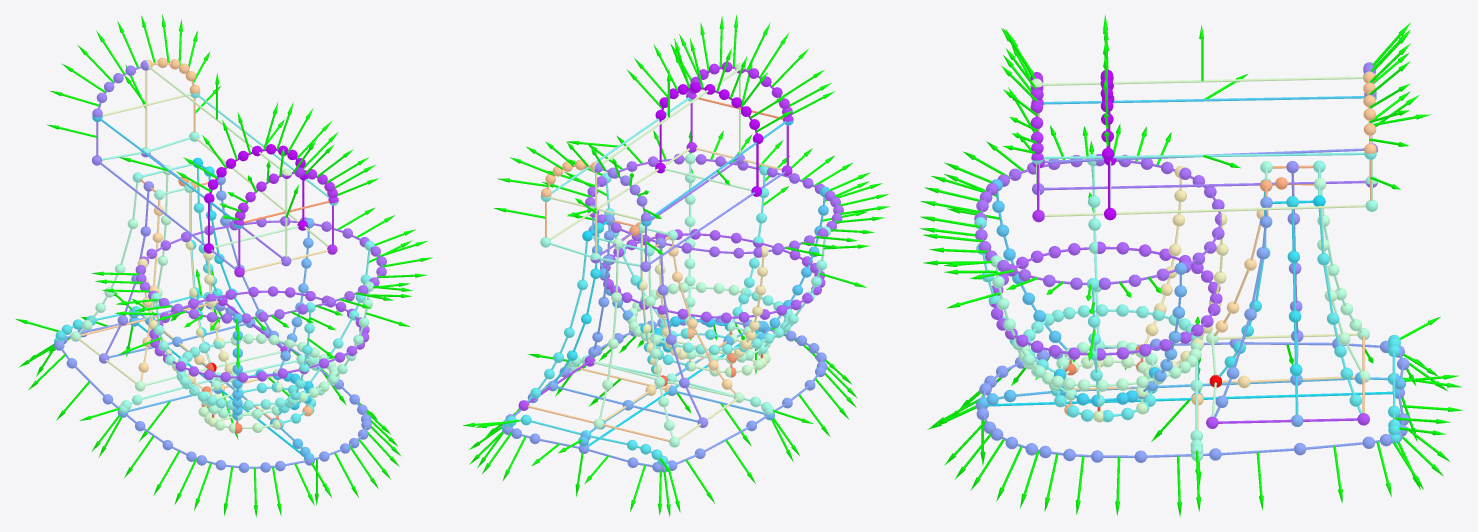
The model's file is t2f_blender.gltf.
3 renders of one model, left to right at view 1: azimuth 30°, elevation 25°; view 2: azimuth 150°, elevation 25°; view 3: azimuth 270°, elevation 25°, orthographic. The views are drawn at different scales.
Bounding box in the file's own units: 0.6611 × 0.7687 × 0.8656.
